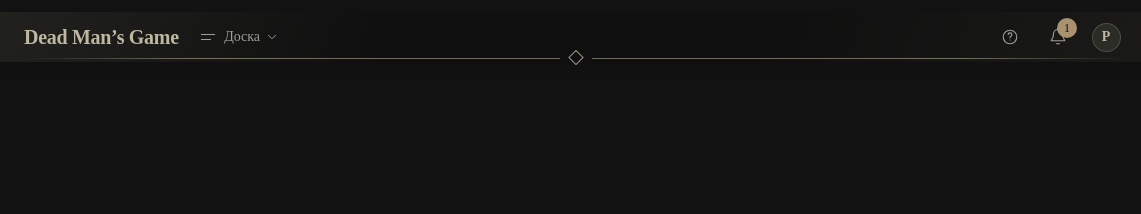
Test: PanelNavigation › shows persistent refusal notifications and links to the application
Click the button named "Открыть уведомления" at (1058,37), box left=1036, top=15, right=1080, bottom=59
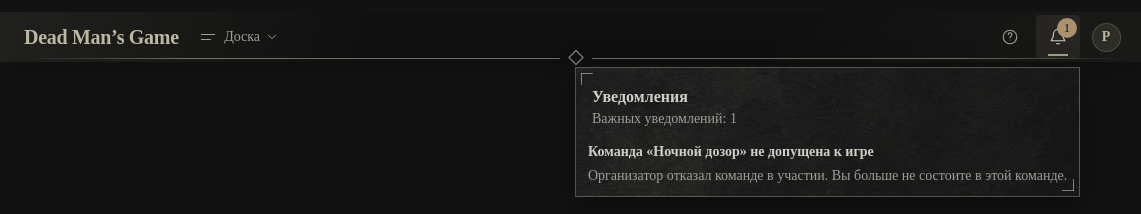
Check: the menu item "Команда «Ночной дозор» не допущена к игре" shows "Организатор отказал команде в участии.", box left=576, top=139, right=1079, bottom=188
